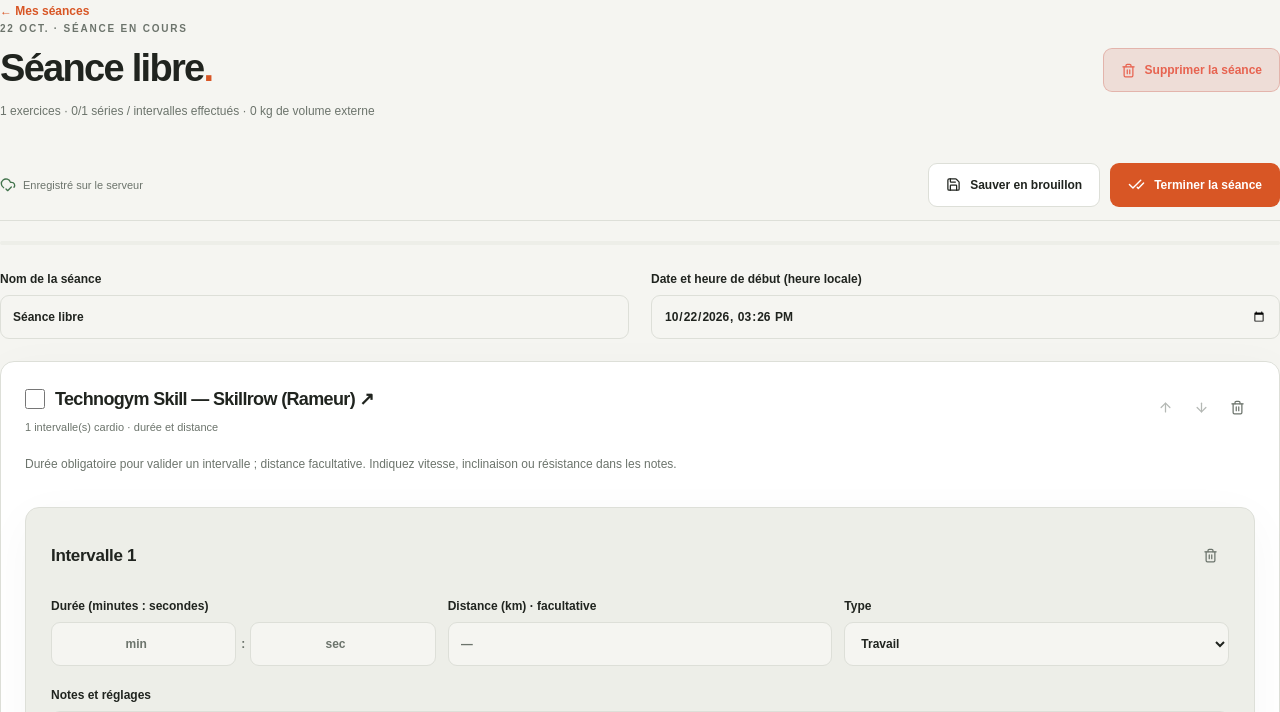
parcours des composants privés (DOM, sans service Auth simulé) › saisit et termine une séance cardio avec une durée et une distance réelles
Type "20" into the number field named "Durée intervalle 1, minutes" at [144, 644], box [51, 622, 236, 666]
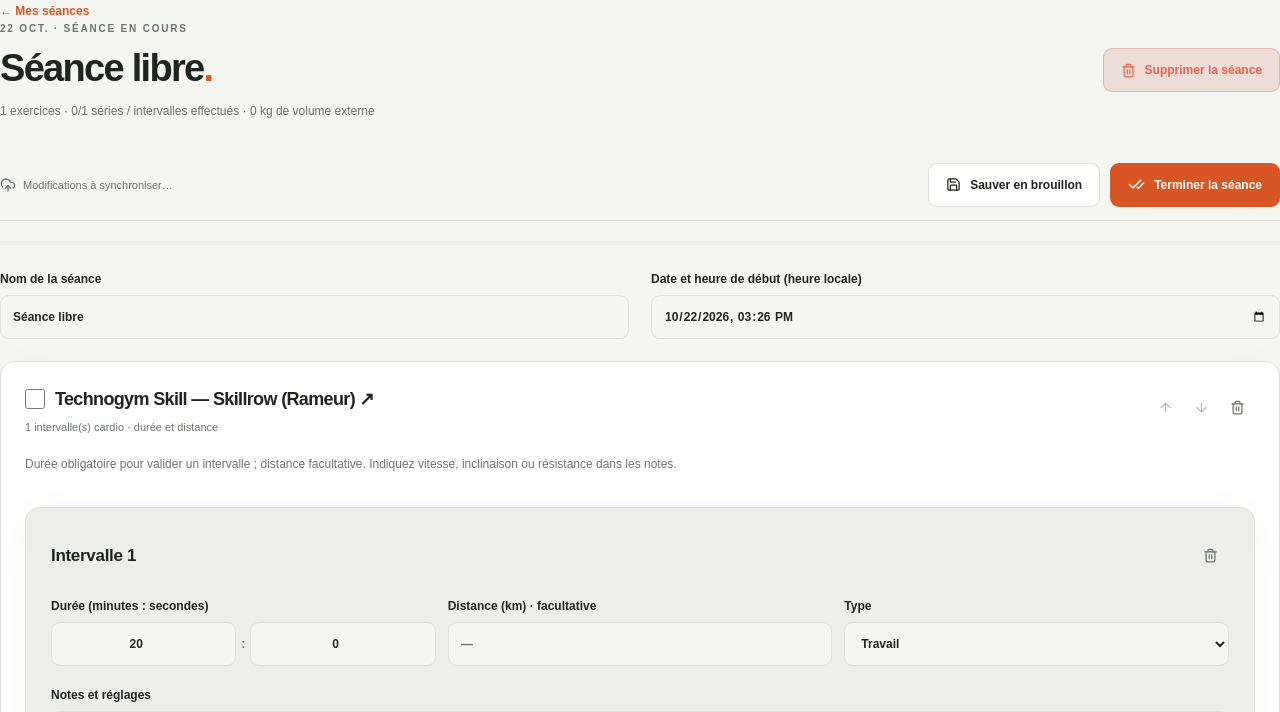
Type "4.5" into the number field named "Distance intervalle 1" at [640, 644], box [448, 622, 832, 666]
(page scrolled)
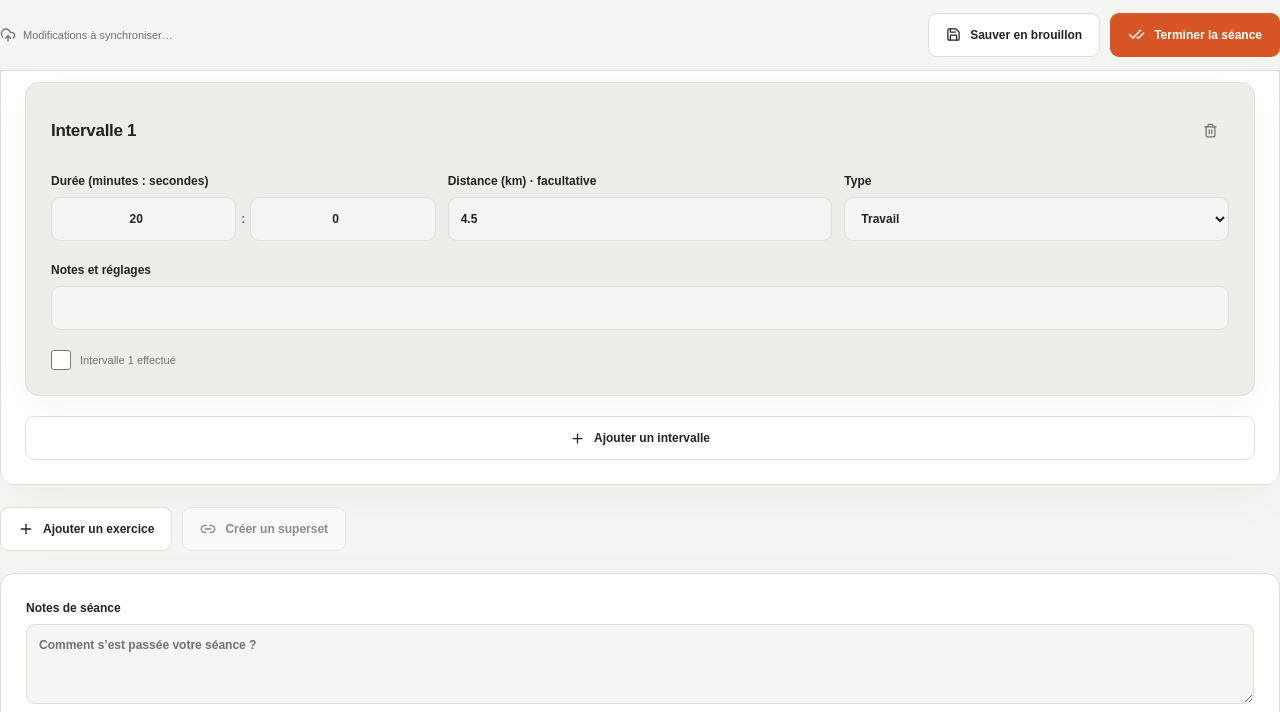
Click the checkbox labelled "Intervalle 1 effectué" at [61, 360], box [51, 350, 71, 370]
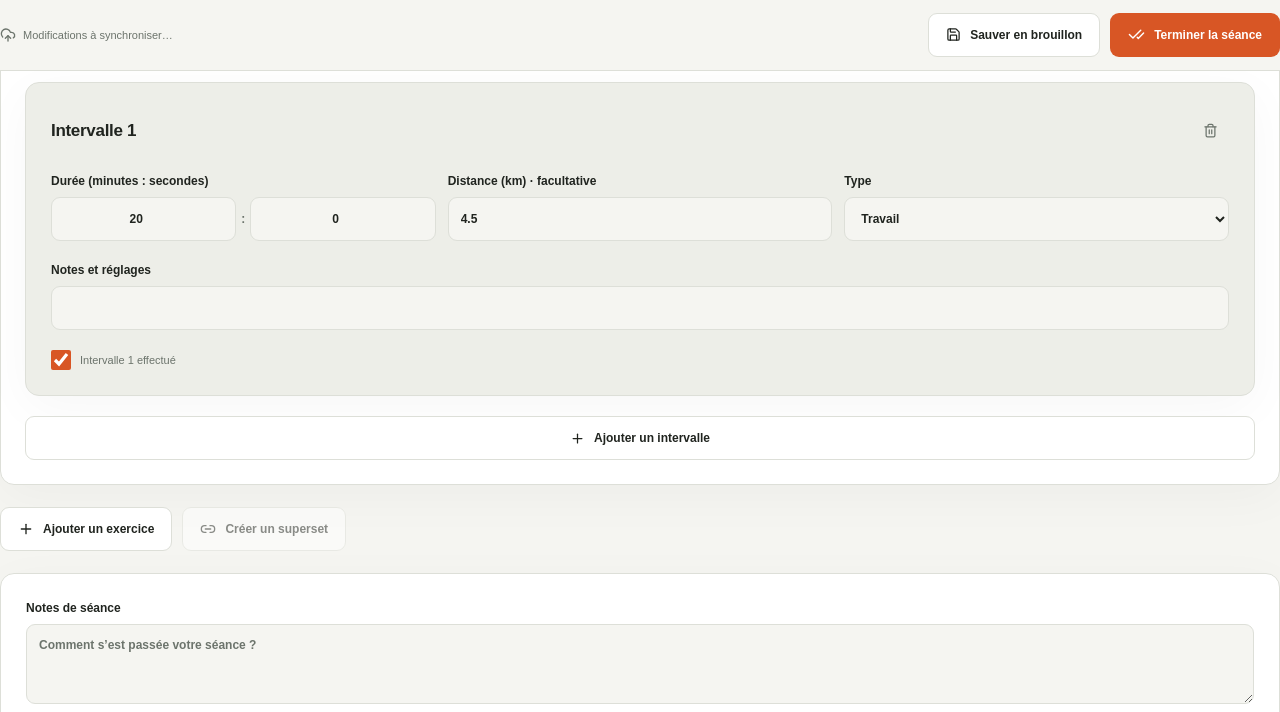
Click the button "Terminer la séance" at [1195, 35], box [1110, 13, 1279, 57]
(page scrolled)
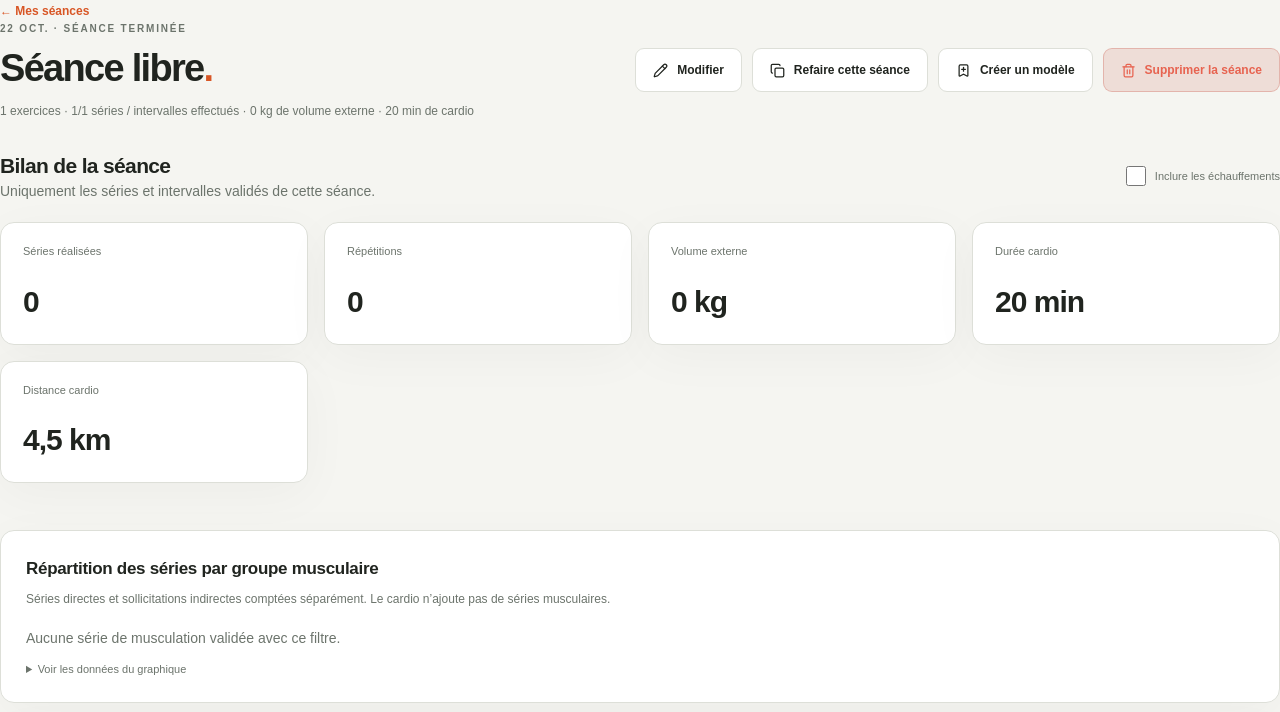
Expected: the heading "Bilan de la séance" is shown, [0, 154, 170, 177]
